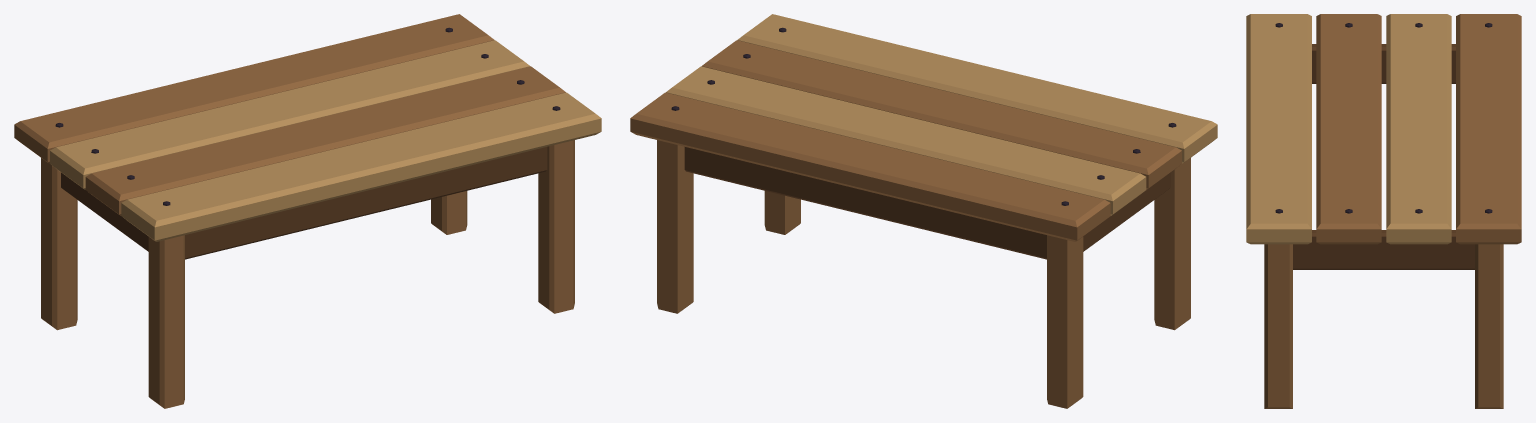
File: Table_14.glb
The picture shows the model from 3 angles, left to right: view 1: azimuth 30°, elevation 25°; view 2: azimuth 150°, elevation 25°; view 3: azimuth 270°, elevation 25°; orthographic projection. The views are drawn at different scales.
Visible parts, largest first — view 1: Table_14; view 2: Table_14; view 3: Table_14.
Boxes of the visible parts, x1,y1,x2,y2 form: Table_14: (14, 14, 601, 408); Table_14: (630, 14, 1217, 408); Table_14: (1246, 14, 1521, 408).
Size of the model in its own units: 7.02 by 2.99 by 3.82.
